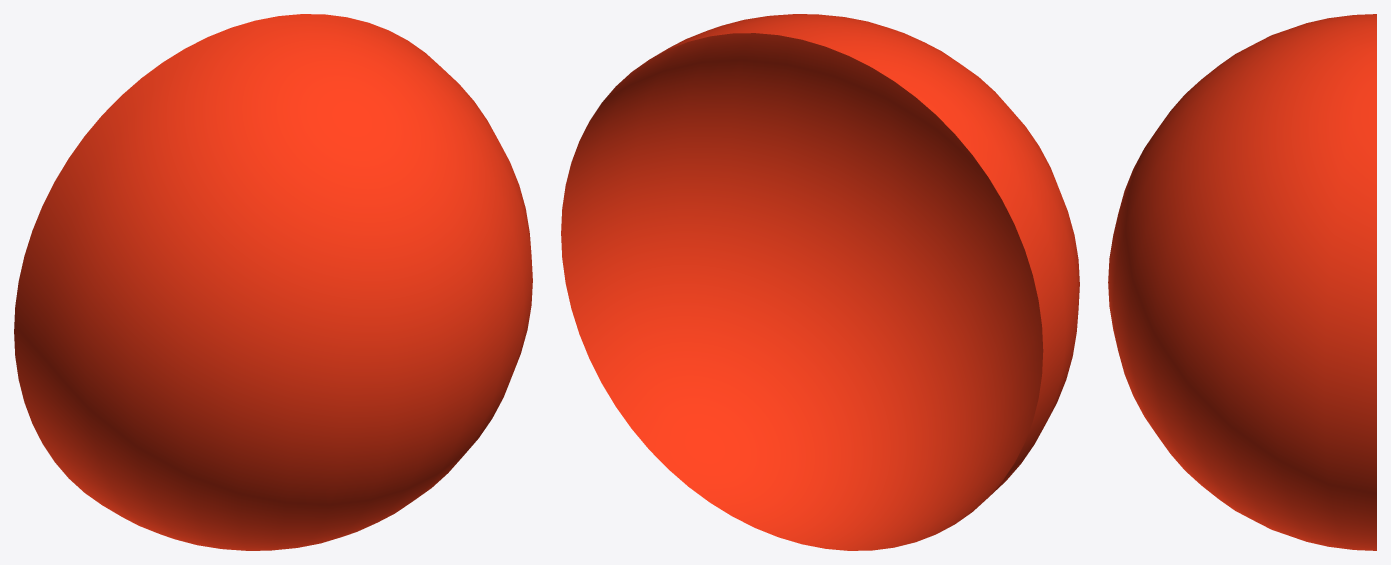
Rendered from Gasha_red.fbx.
3 views of the same model, side by side, from view 1: azimuth 30°, elevation 25°; view 2: azimuth 150°, elevation 25°; view 3: azimuth 270°, elevation 25° (orthographic). The views are drawn at different scales.
Visible parts, largest first — view 1: Gasha_red; view 2: Gasha_red; view 3: Gasha_red.
Boxes of the visible parts, x1=… form: Gasha_red: x1=14, y1=14, x2=532, y2=550; Gasha_red: x1=561, y1=14, x2=1079, y2=550; Gasha_red: x1=1108, y1=14, x2=1376, y2=550.
Bounding box in the file's own units: 100 × 100 × 50.
